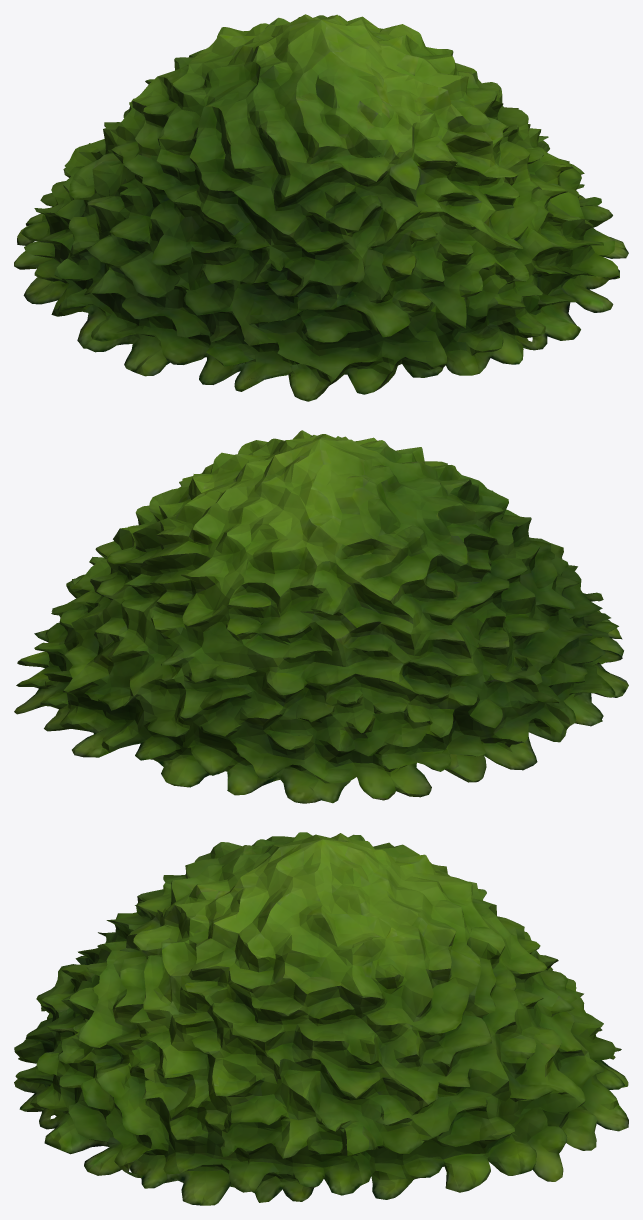
File: green leaves.glb
3 views of the same model, one above another, from view 1: azimuth 30°, elevation 25°; view 2: azimuth 150°, elevation 25°; view 3: azimuth 270°, elevation 25° (orthographic). The views are drawn at different scales.
Visible parts, largest first — view 1: world; view 2: world; view 3: world.
Part boxes in pixels (x1,y1,x2,y2): world: (14, 14, 628, 401); world: (14, 430, 628, 803); world: (14, 832, 628, 1205).
Size of the model in its own units: 0.9909 by 0.4494 by 1.
Materials: 1 (1 with a texture image).
